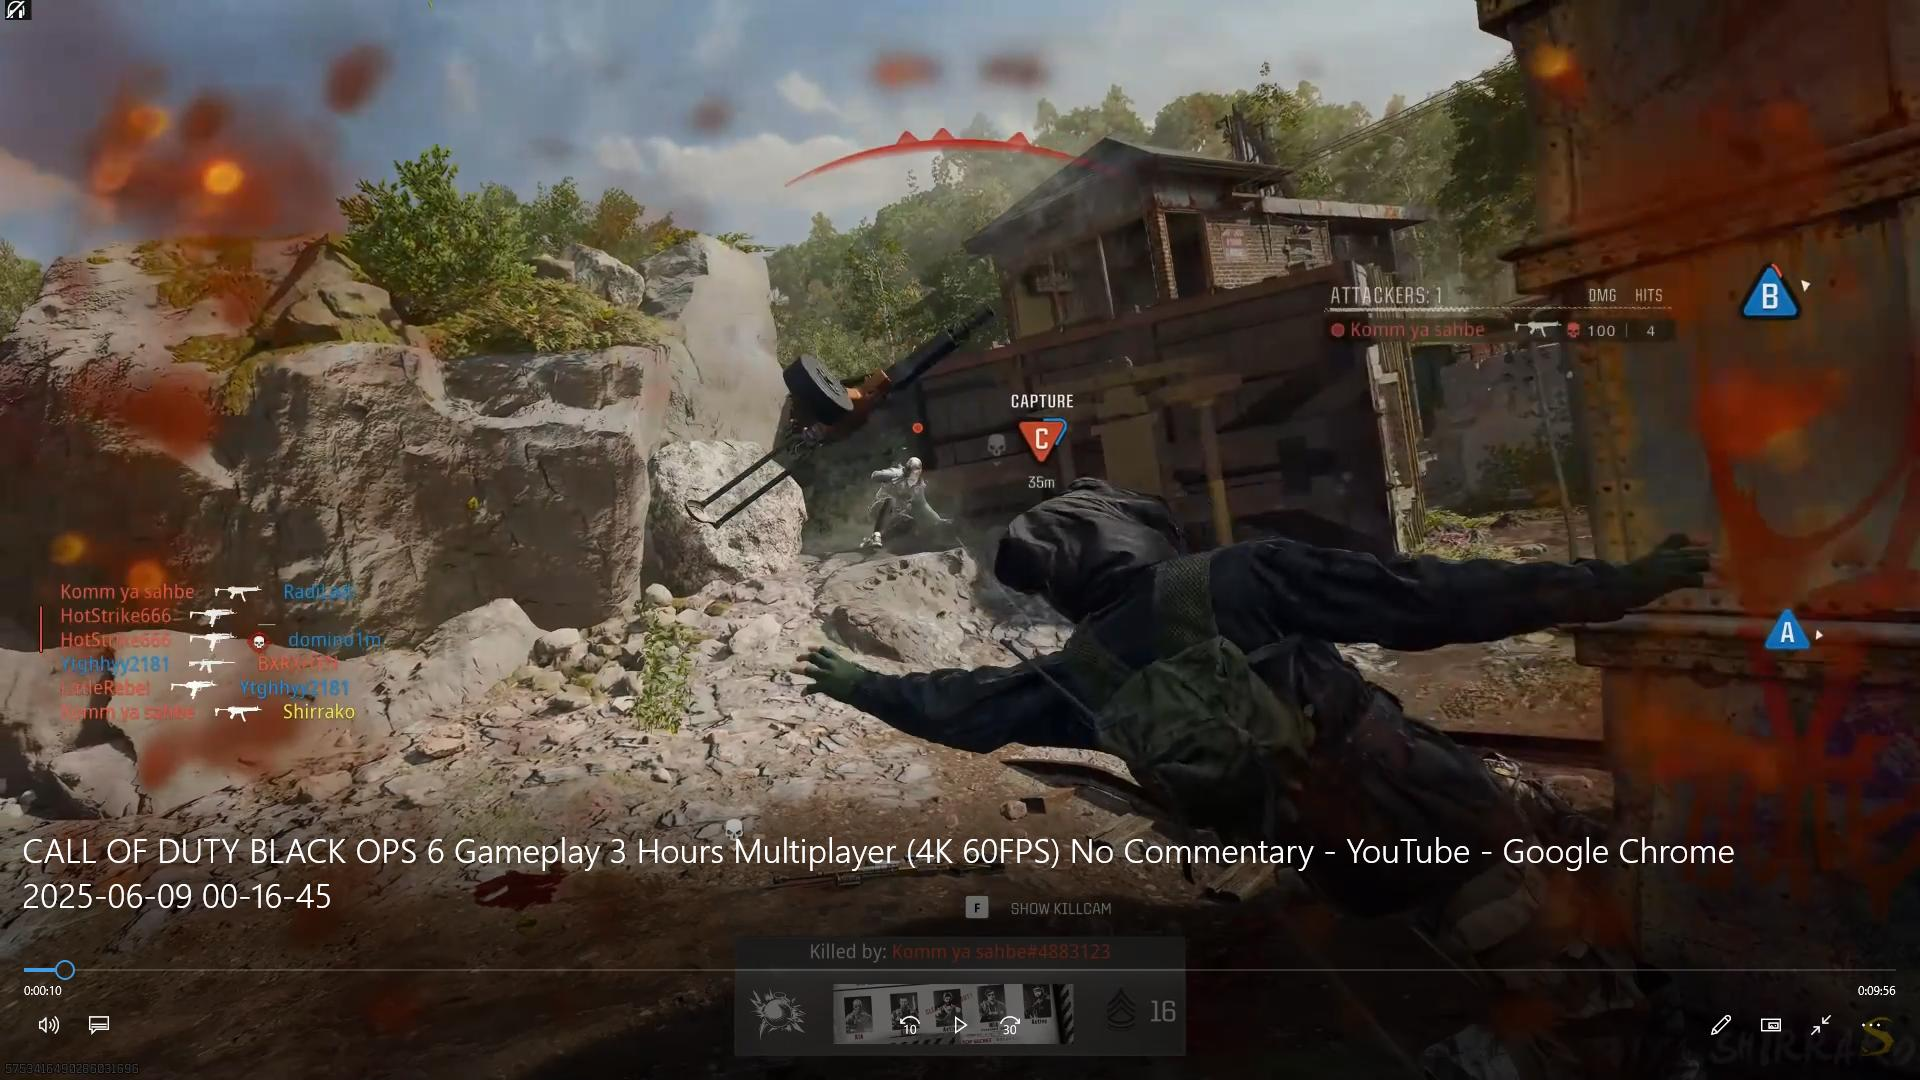Enemy: (861, 446, 943, 549)
